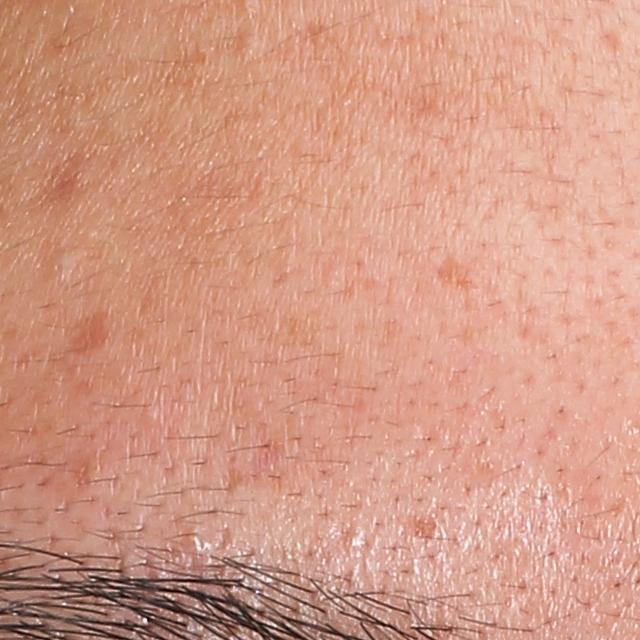atrophic_scar: (33, 151, 91, 204), (62, 313, 127, 353), (431, 252, 477, 302)
comedo: (235, 29, 262, 64)
